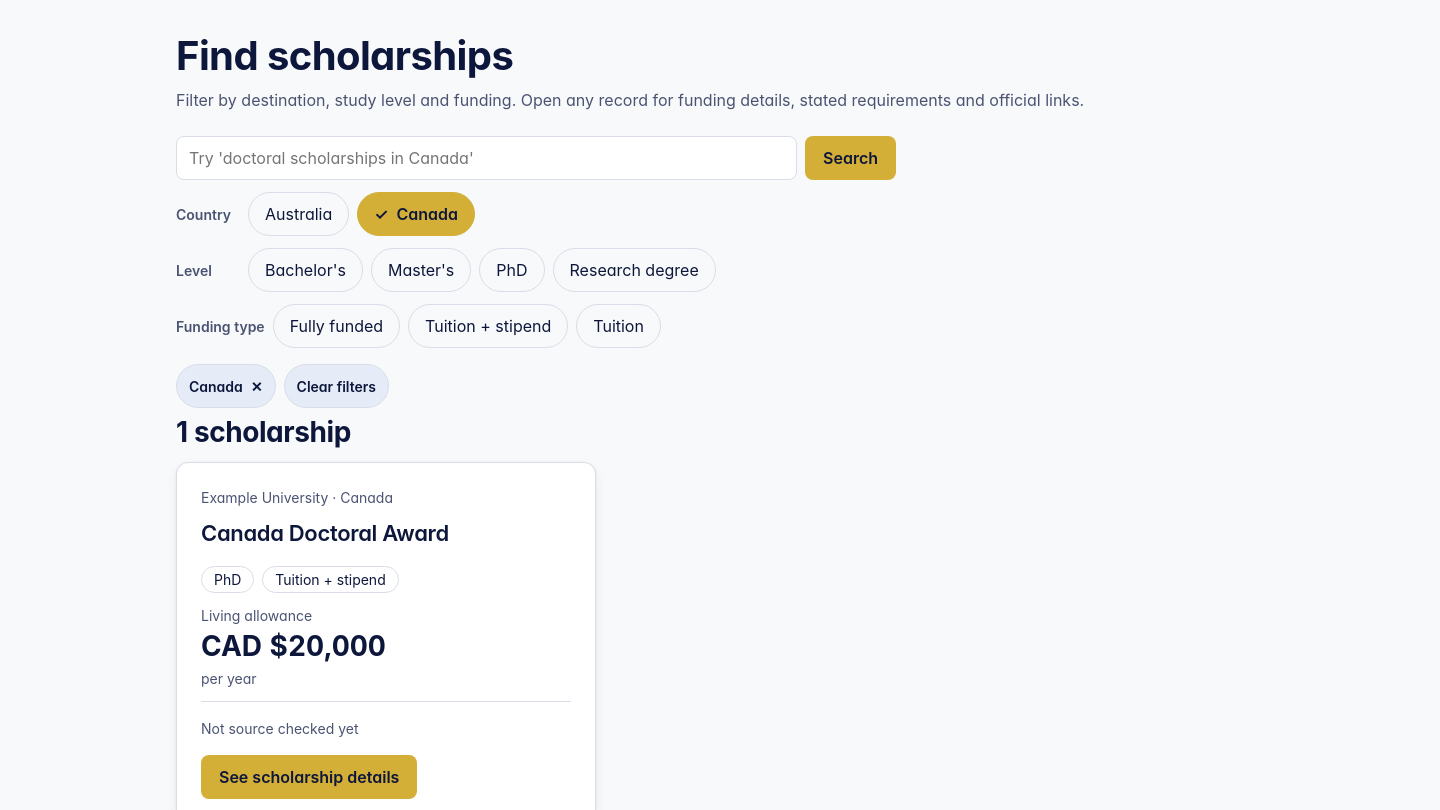
Test case: ExplorePage › removes a filter through its active chip
Click the button with aria-label "Remove filter Canada".
click(226, 386)  # box [176,364,276,408]
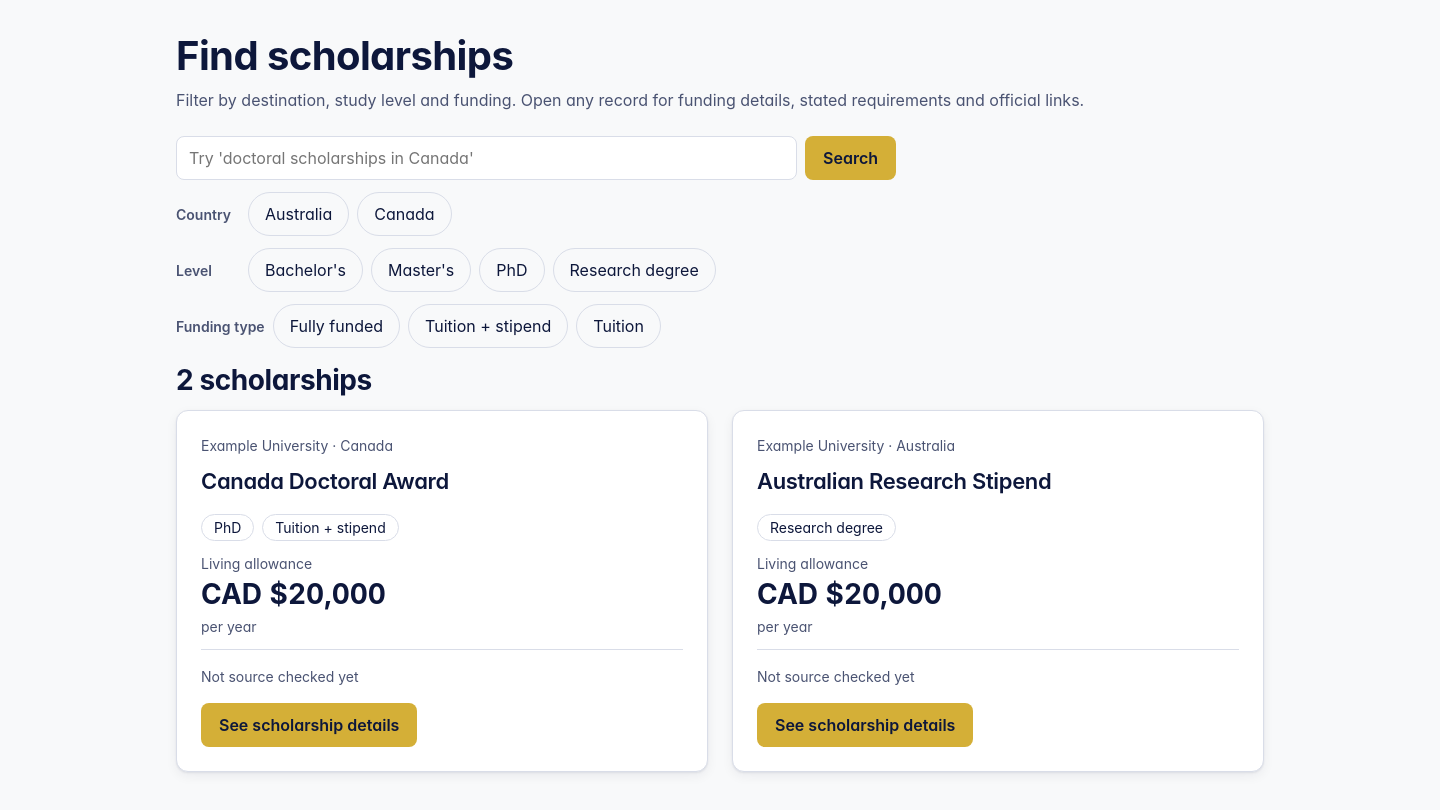
Now the heading "2 scholarships" is shown, box [176,363,372,397]
